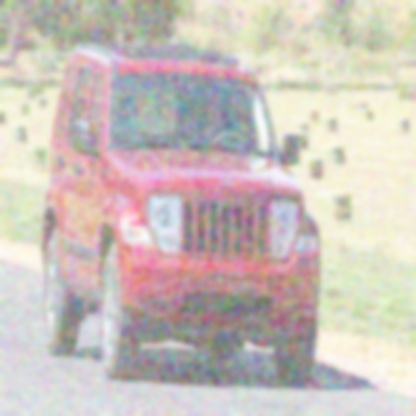Vehicle: (41, 18, 322, 388)
